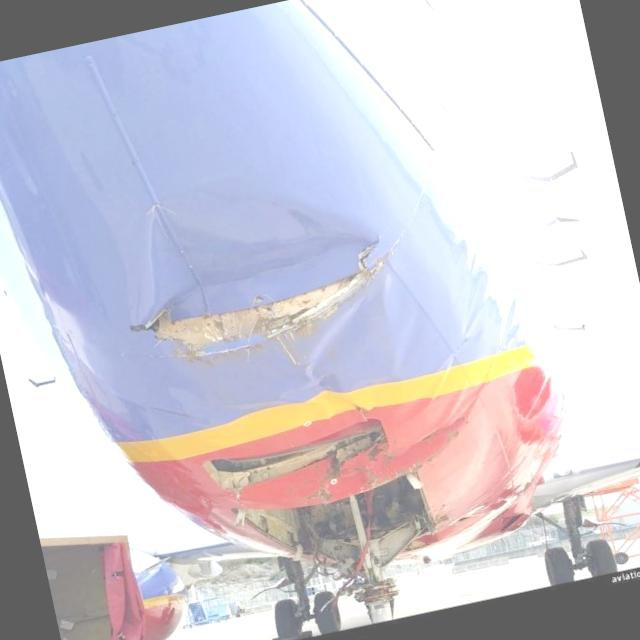crack: (349, 234, 394, 276)
dent: (126, 160, 382, 318), (288, 298, 382, 391)
